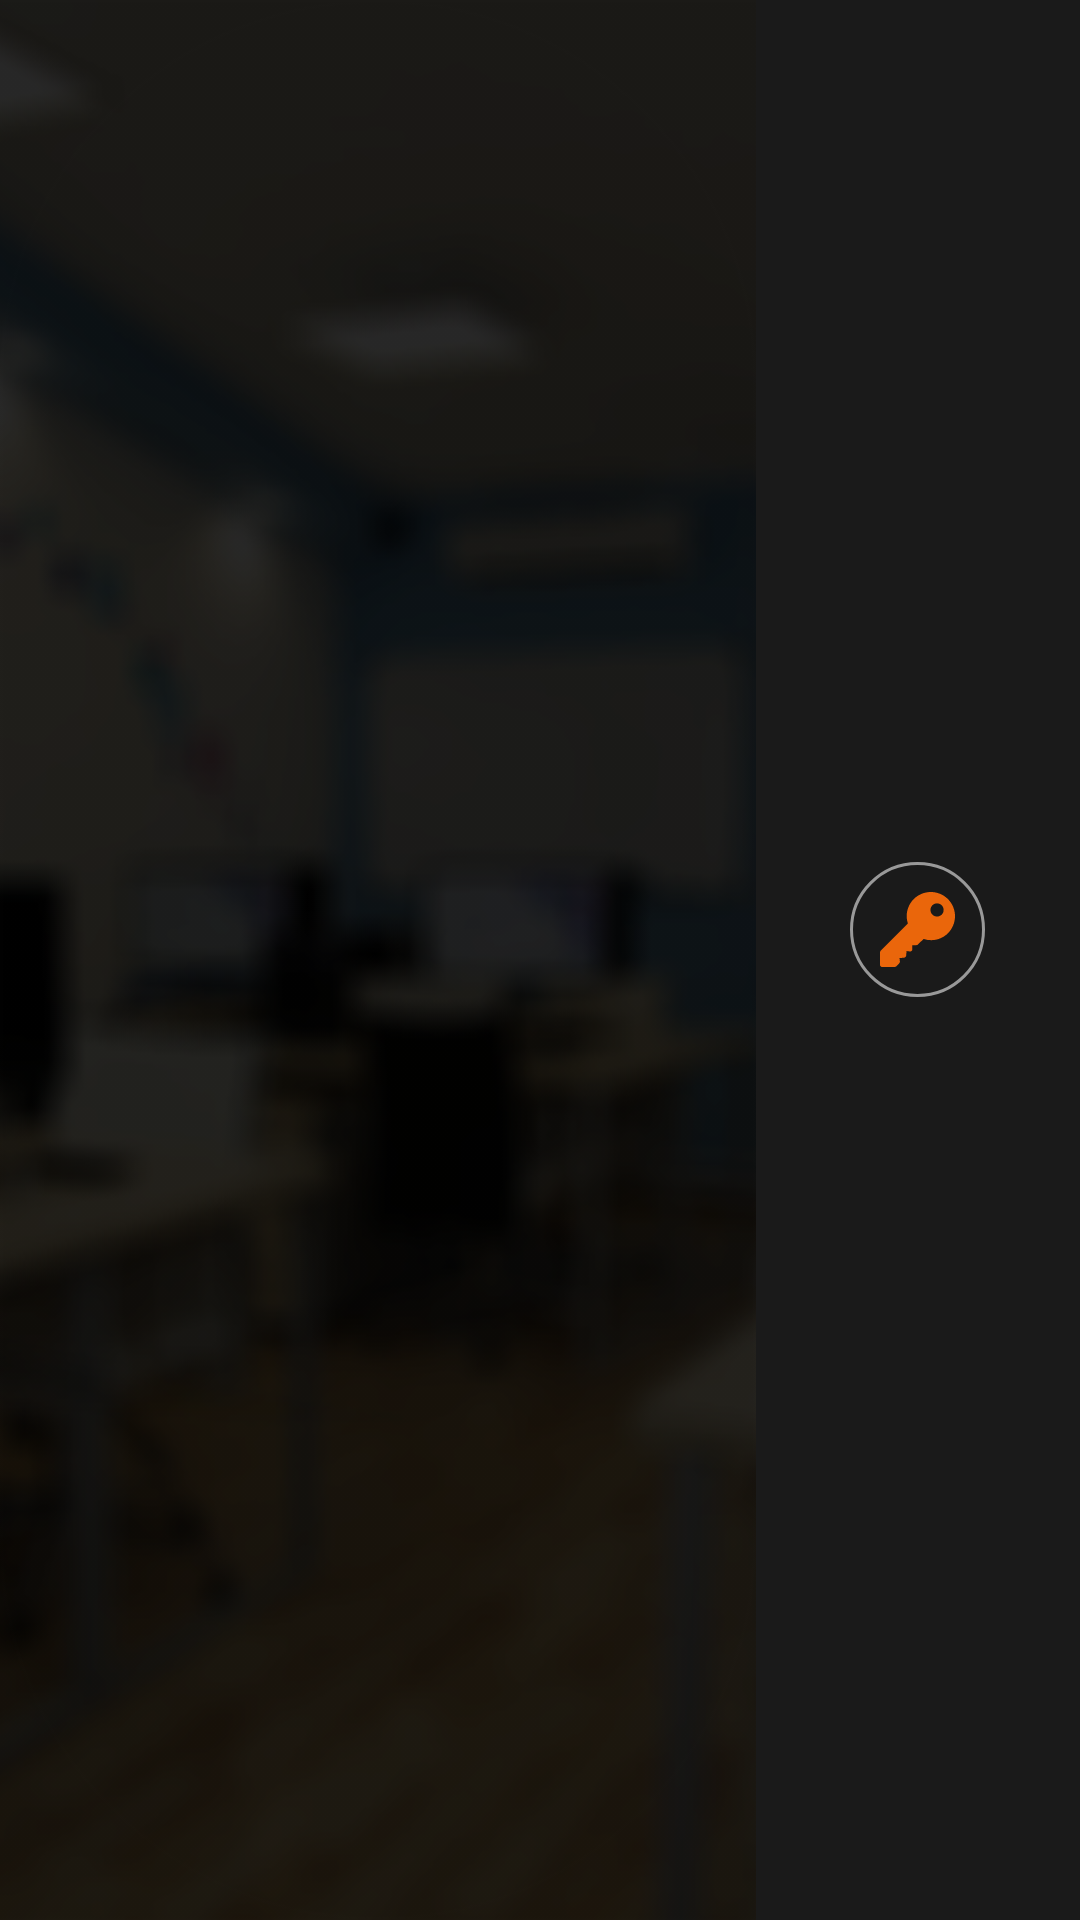

Icon bounding boxes for this 1080x1920 phone screenshot, format (x1, y1, x2, y2):
key: (850, 862, 985, 997)
